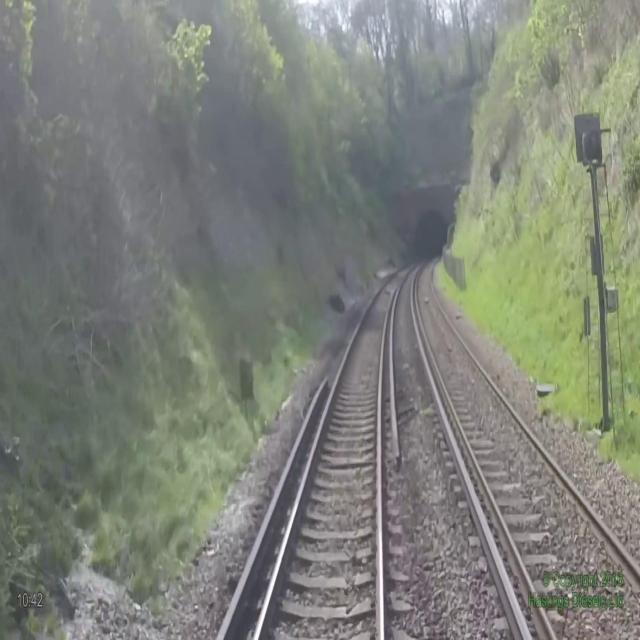rail-track: (417, 256, 640, 639), (256, 261, 415, 639)
